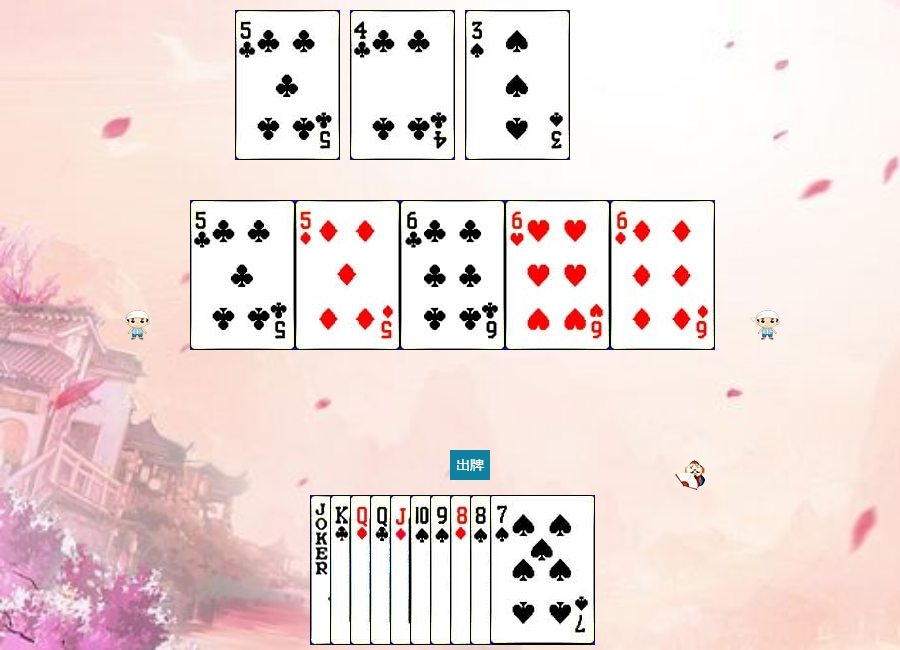10~4: (410, 495, 515, 645)
11~1: (390, 495, 495, 645)
12~1: (350, 495, 455, 645)
12~2: (370, 495, 475, 645)
13~2: (330, 495, 435, 645)
17~3: (310, 495, 415, 645)
3~4: (465, 10, 570, 160)
4~2: (350, 10, 455, 160)
5~1: (295, 200, 400, 350)
5~2: (235, 10, 340, 160), (190, 200, 295, 350)
6~1: (610, 200, 715, 350)
6~2: (400, 200, 505, 350)
6~3: (505, 200, 610, 350)
7~4: (490, 495, 595, 645)
8~1: (450, 495, 555, 645)
8~4: (470, 495, 575, 645)
9~4: (430, 495, 535, 645)
